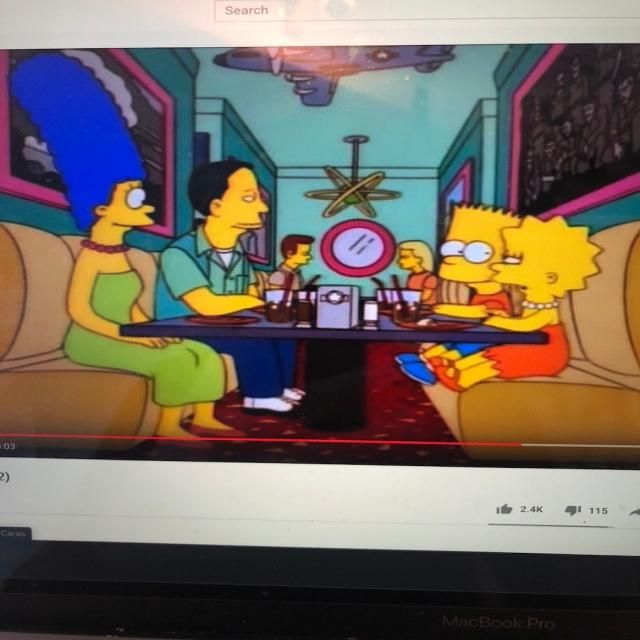Bart Simpson: (435, 200, 522, 294)
Lisa Simpson: (487, 212, 607, 311)
Marge Simpson: (1, 47, 158, 256)
